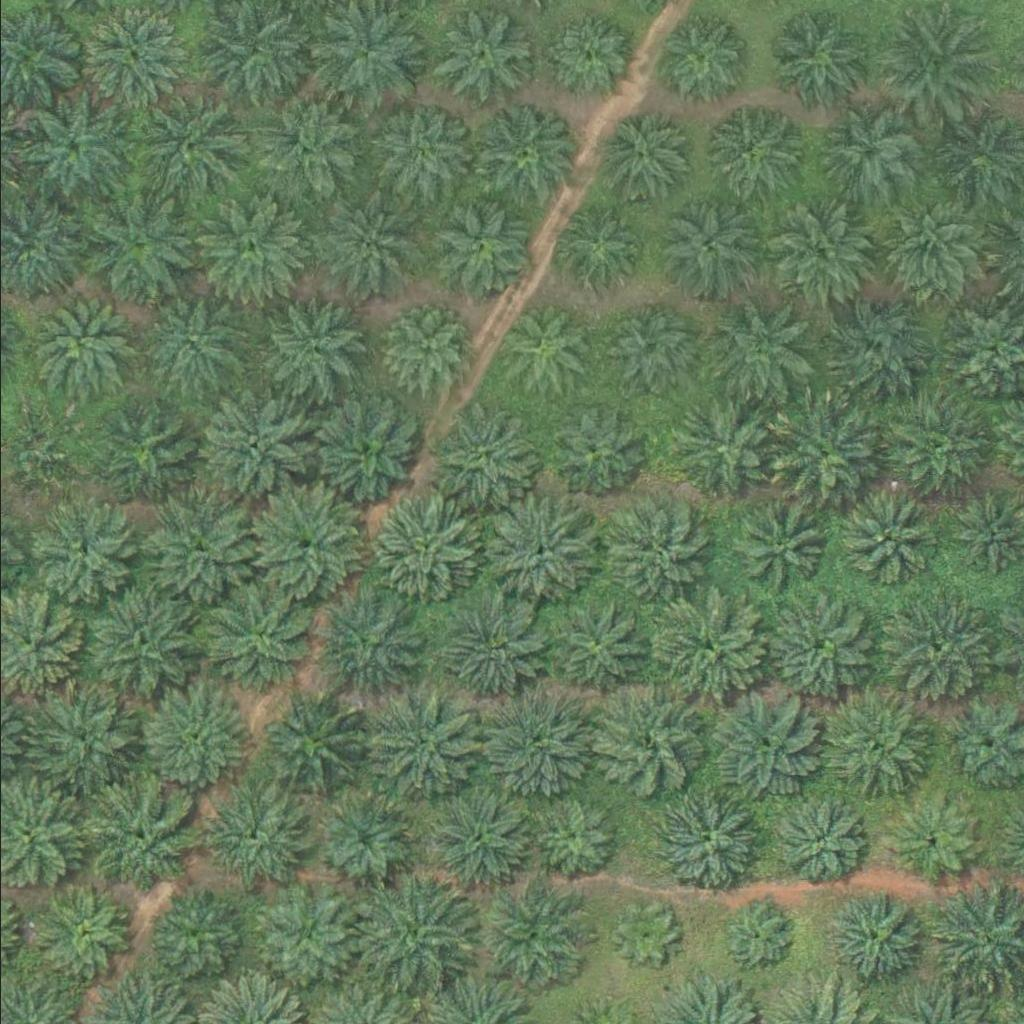Kelapa_Sawit: (812, 99, 926, 212), (253, 692, 367, 805), (428, 400, 542, 513), (761, 195, 875, 308), (201, 577, 315, 690), (135, 684, 249, 797), (82, 782, 196, 895), (876, 596, 989, 709), (757, 591, 870, 704), (819, 885, 932, 998), (591, 684, 704, 797), (478, 688, 591, 801), (363, 689, 476, 802), (653, 589, 766, 702), (533, 591, 646, 704), (308, 392, 421, 505), (422, 190, 535, 303), (193, 391, 306, 504), (87, 394, 200, 507), (23, 680, 136, 793), (878, 8, 992, 120), (313, 587, 427, 699), (482, 497, 596, 609), (361, 493, 475, 605), (697, 293, 811, 405), (821, 293, 934, 405), (869, 397, 982, 509), (819, 686, 932, 798), (474, 880, 587, 992), (352, 879, 465, 991), (647, 788, 760, 900), (416, 782, 529, 894), (706, 688, 819, 800), (431, 592, 544, 704), (599, 498, 712, 610), (765, 394, 878, 506), (309, 193, 422, 305), (465, 97, 578, 209), (133, 91, 246, 203), (18, 90, 131, 202), (194, 191, 307, 303), (79, 190, 192, 302), (247, 488, 360, 600), (143, 493, 256, 605), (25, 494, 138, 606), (84, 589, 197, 701), (836, 489, 937, 589), (311, 790, 412, 890), (727, 495, 828, 595), (369, 99, 470, 199), (770, 8, 871, 108), (654, 9, 755, 109), (436, 5, 537, 105), (83, 2, 184, 102), (258, 100, 359, 200), (264, 299, 365, 399), (139, 288, 240, 388), (19, 297, 120, 397), (256, 890, 357, 990), (146, 891, 247, 991), (878, 199, 978, 299), (669, 398, 769, 498), (539, 399, 639, 499), (496, 298, 596, 398), (654, 195, 754, 295), (701, 102, 801, 202), (207, 793, 307, 893), (32, 889, 132, 989), (771, 797, 859, 885), (531, 794, 619, 882), (593, 110, 681, 198), (545, 12, 633, 100), (887, 797, 975, 884), (600, 300, 688, 387), (381, 307, 469, 394), (553, 198, 641, 285), (723, 908, 786, 971), (612, 903, 675, 966)
